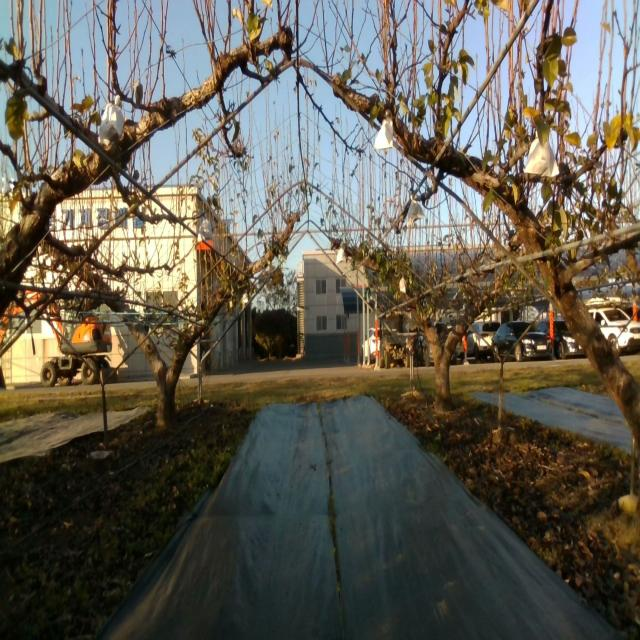pearbags: (524, 134, 560, 182), (98, 95, 124, 148), (374, 116, 394, 150), (406, 195, 424, 227), (197, 218, 215, 242)
